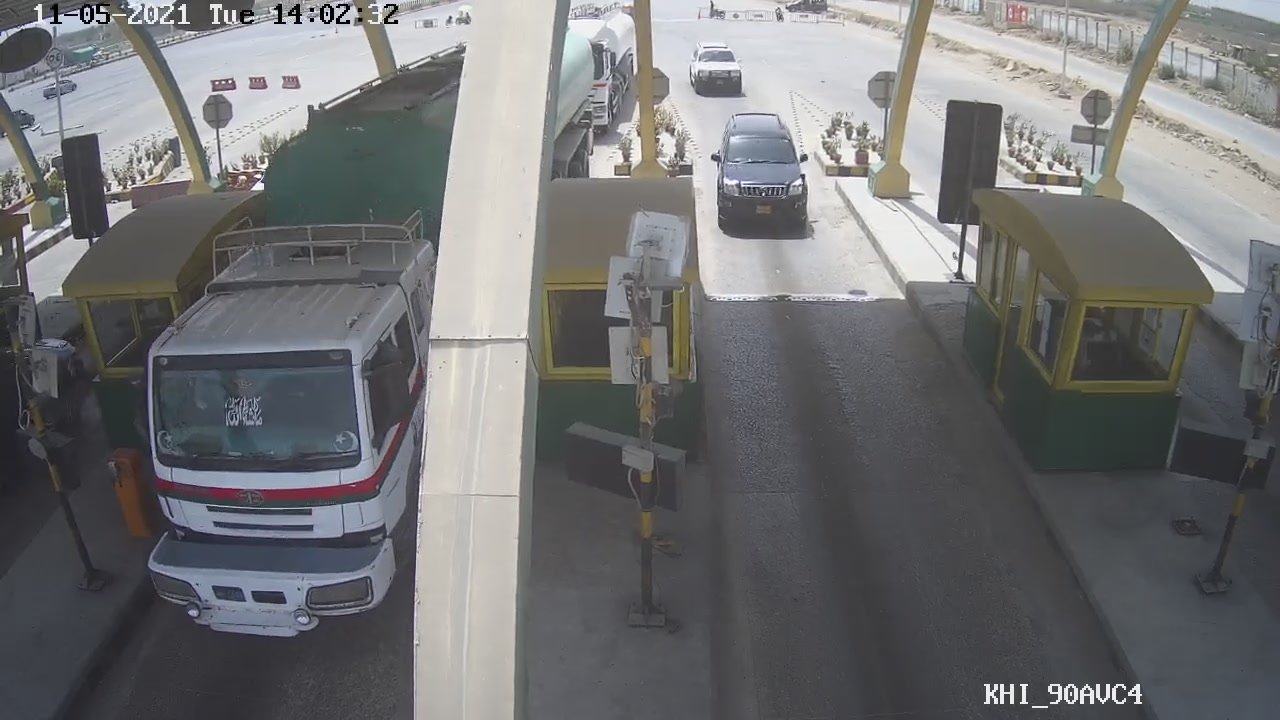F1: (701, 107, 816, 239)
